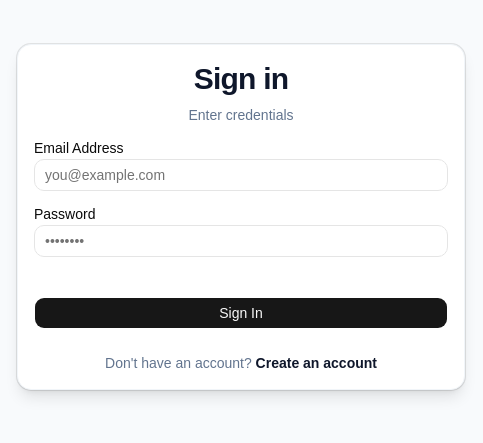
Test: Login Component › should display an error alert if submitted with empty fields
The width and height of the screenshot is (483, 443).
Click the button "Sign In" at (241,313), box [34, 297, 448, 329]
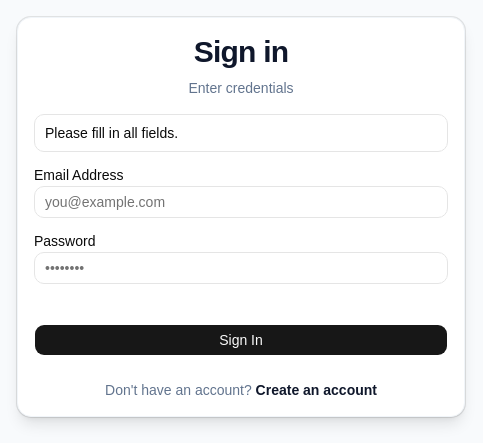
Now the message shows "Please fill in all fields", box [45, 125, 178, 141]
